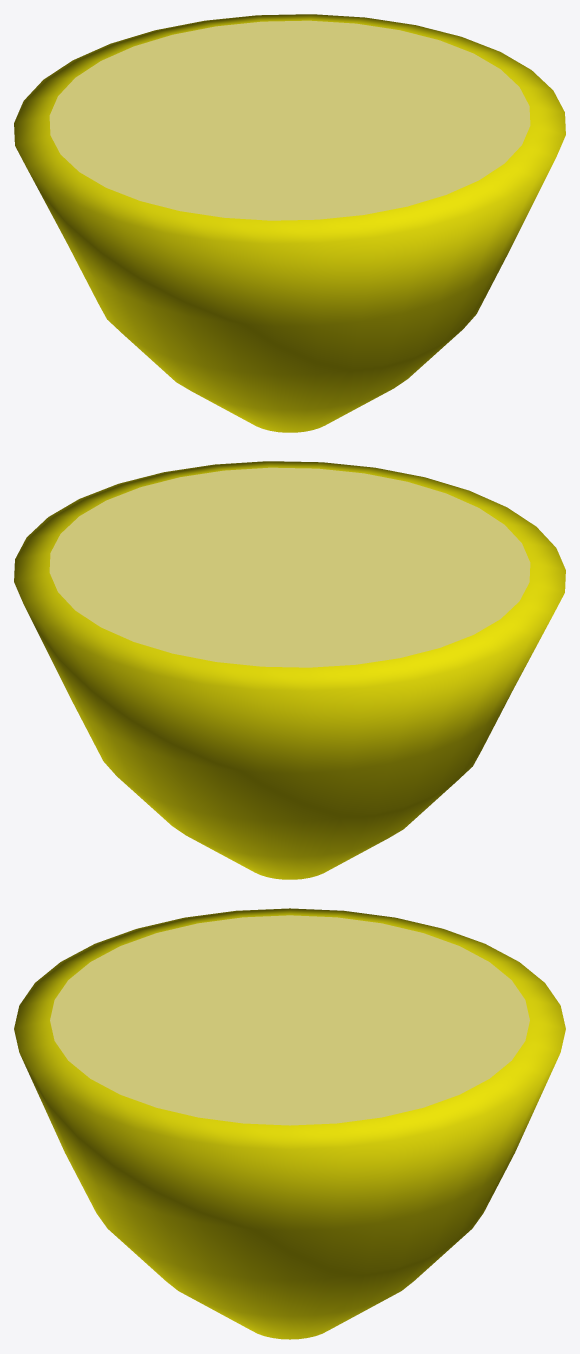
The model's file is Lemon.fbx.
3 views of the same model, one above another, from view 1: azimuth 30°, elevation 25°; view 2: azimuth 150°, elevation 25°; view 3: azimuth 270°, elevation 25° (orthographic). The views are drawn at different scales.
Visible parts, largest first — view 1: LemonPeel, InnerLemon; view 2: LemonPeel, InnerLemon; view 3: LemonPeel, InnerLemon.
Part boxes in pixels (left/top/right/bottom): LemonPeel: left=14, top=14, right=565, bottom=432; InnerLemon: left=49, top=20, right=530, bottom=220; LemonPeel: left=14, top=461, right=565, bottom=879; InnerLemon: left=49, top=467, right=530, bottom=667; LemonPeel: left=14, top=908, right=565, bottom=1339; InnerLemon: left=50, top=915, right=529, bottom=1125.
Bounding box in the file's own units: 204 × 118 × 197.
